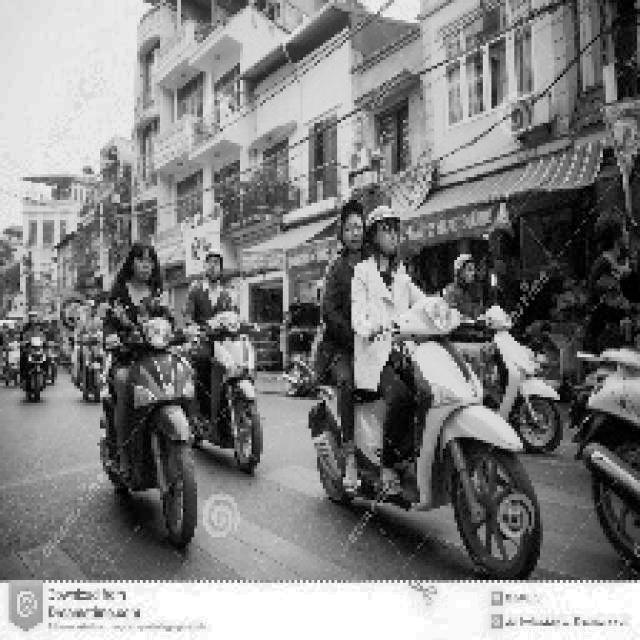Bike: (309, 315, 543, 579), (80, 312, 200, 560), (459, 295, 563, 435), (188, 302, 264, 462), (21, 308, 55, 402)
